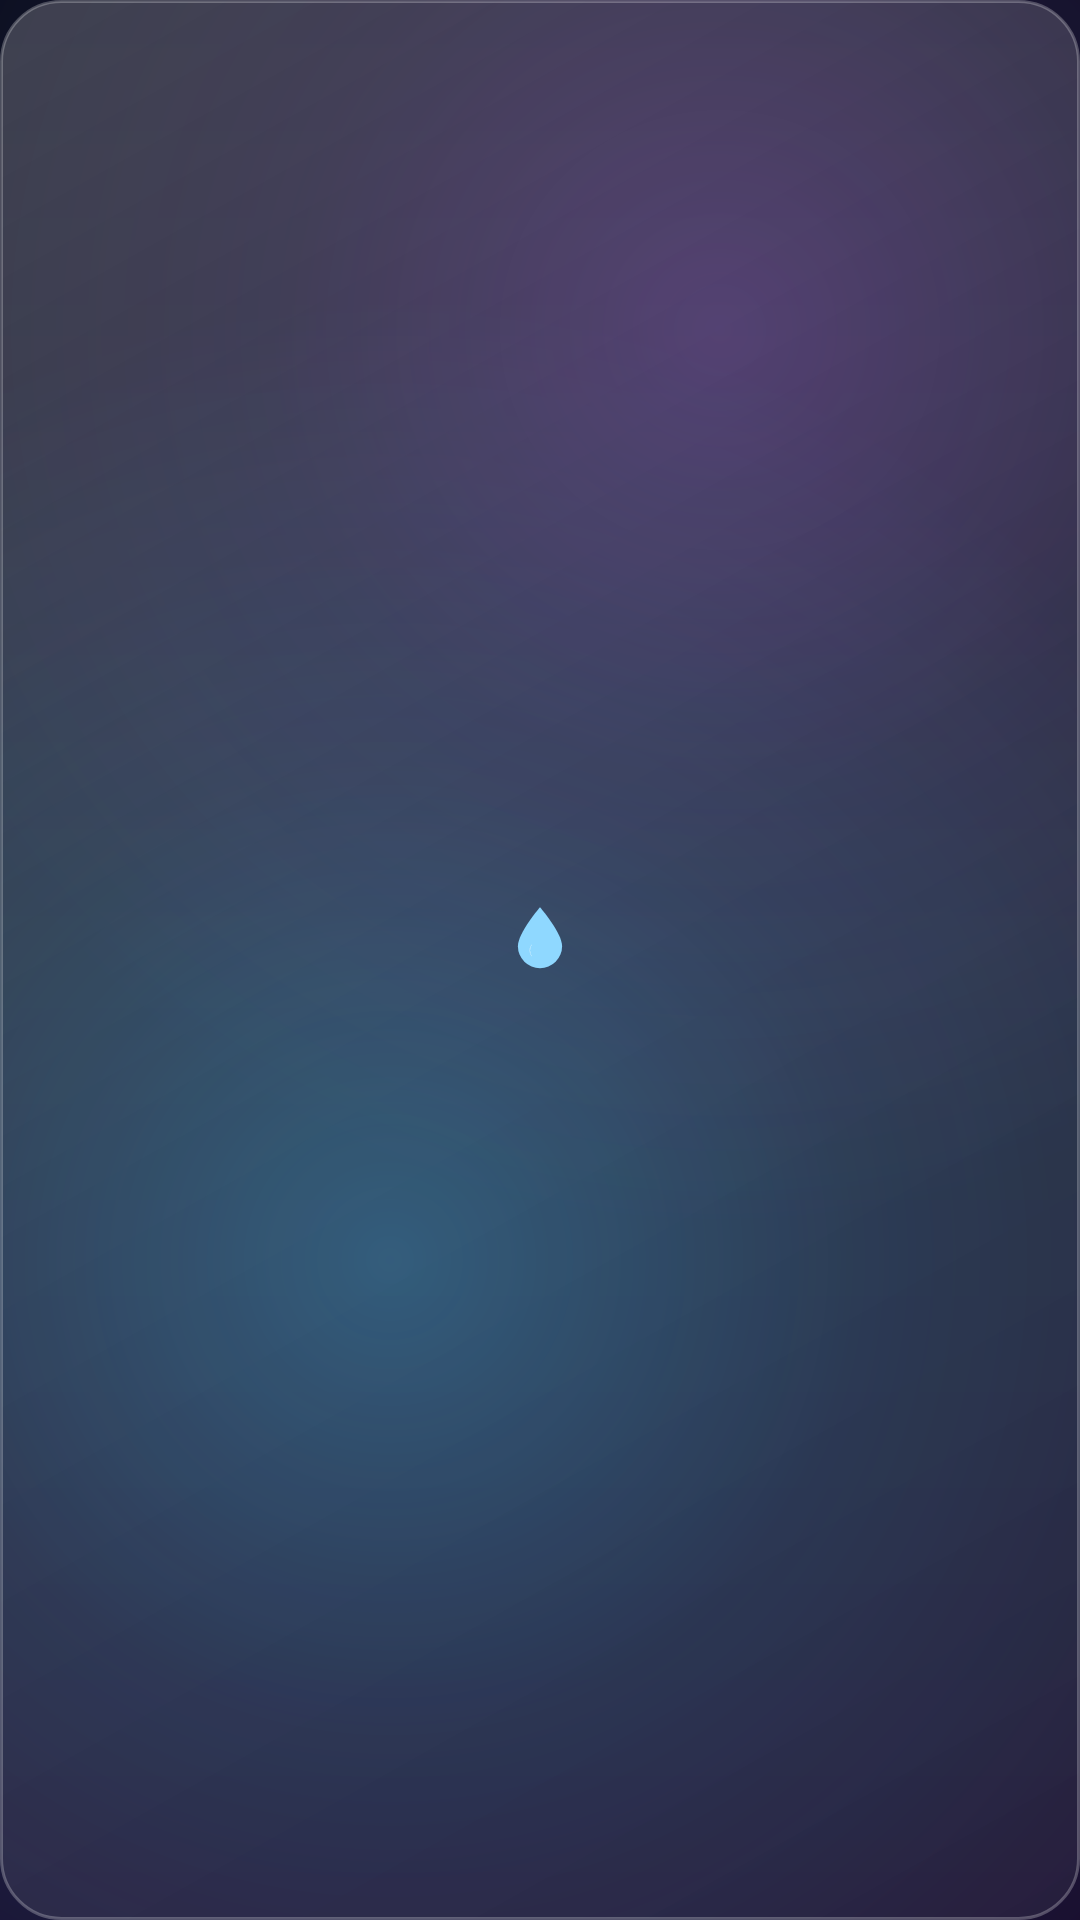

Where to tap for icons on this 1080×1920 app screen, as [x,y]:
widget water: [540,938]
